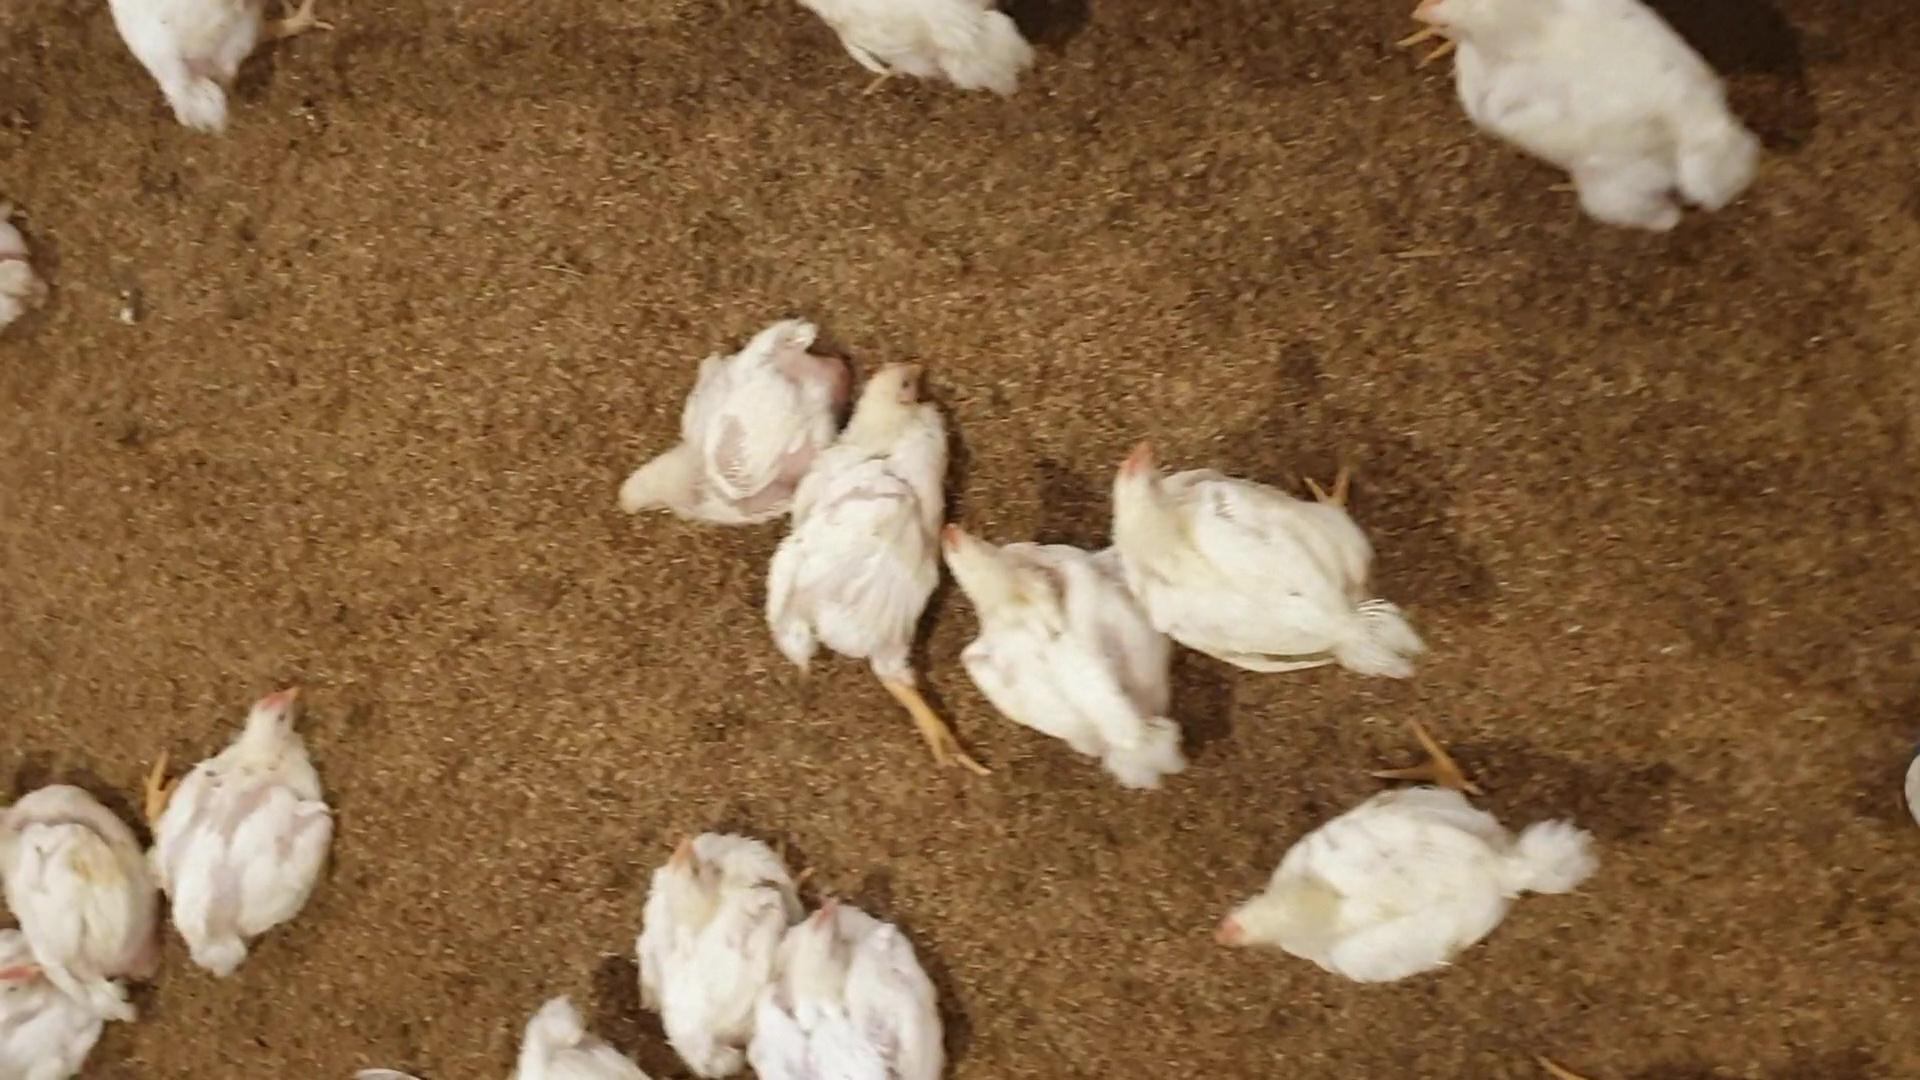Pollos: (1216, 729, 1601, 994), (1112, 435, 1432, 688), (932, 513, 1176, 785), (791, 353, 955, 666), (160, 680, 331, 948), (622, 319, 833, 525), (770, 893, 926, 1076), (642, 837, 764, 1034)
